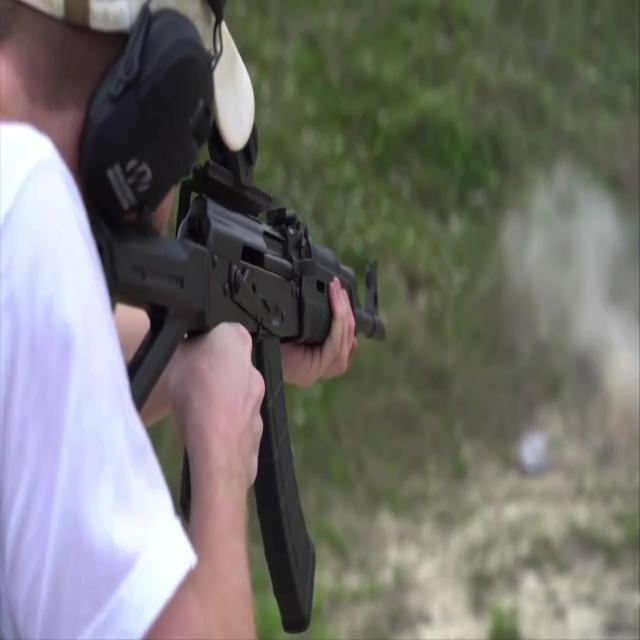Weapon: (66, 93, 378, 627)
